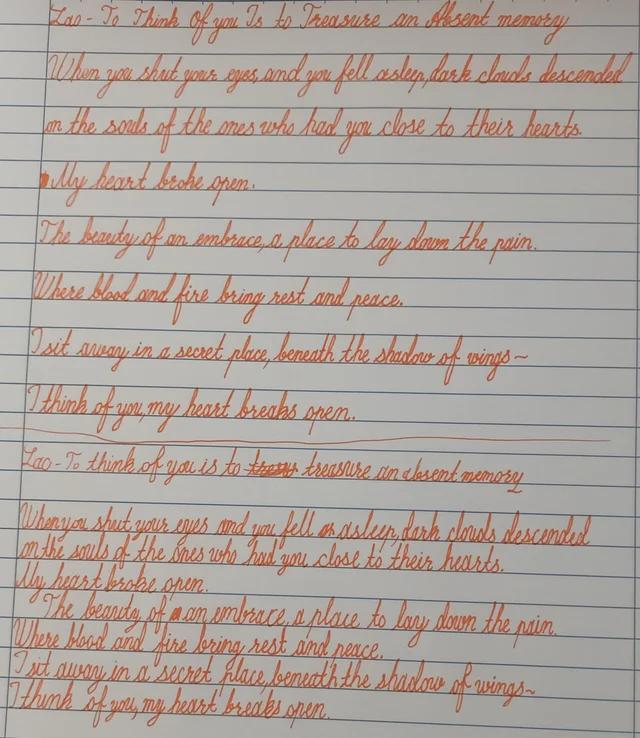paper: (0, 0, 639, 737)
